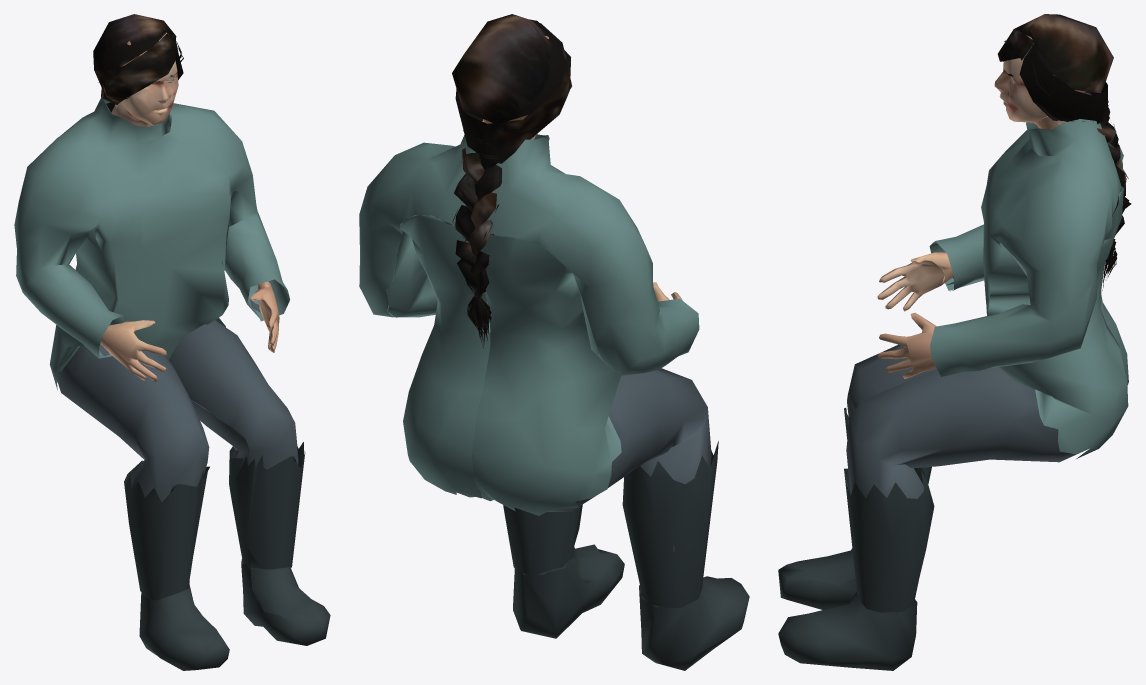
File: female-seated.glb
3 views of the same model, side by side, from view 1: azimuth 30°, elevation 25°; view 2: azimuth 150°, elevation 25°; view 3: azimuth 270°, elevation 25° (orthographic). The views are drawn at different scales.
Visible parts, largest first — view 1: LOD_tunic, LOD_boots, LOD_trousers, LOD_hair, LOD_skin; view 2: LOD_tunic, LOD_boots, LOD_hair, LOD_trousers; view 3: LOD_tunic, LOD_trousers, LOD_boots, LOD_hair, LOD_skin.
Part boxes in pixels (left/top/right/bottom): LOD_tunic: left=14, top=94, right=289, bottom=389; LOD_boots: left=124, top=442, right=330, bottom=670; LOD_trousers: left=56, top=299, right=298, bottom=502; LOD_hair: left=93, top=14, right=183, bottom=112; LOD_skin: left=100, top=32, right=279, bottom=381; LOD_tunic: left=359, top=134, right=699, bottom=515; LOD_boots: left=503, top=441, right=749, bottom=670; LOD_hair: left=452, top=14, right=571, bottom=348; LOD_trousers: left=456, top=332, right=711, bottom=552; LOD_tunic: left=929, top=92, right=1128, bottom=458; LOD_trousers: left=846, top=276, right=1125, bottom=498; LOD_boots: left=778, top=408, right=934, bottom=670; LOD_hair: left=997, top=14, right=1131, bottom=290; LOD_skin: left=877, top=35, right=1085, bottom=378.
Bounding box in the file's own units: 0.6689 × 1.52 × 0.7823.
Materials: 7 (4 with a texture image).
